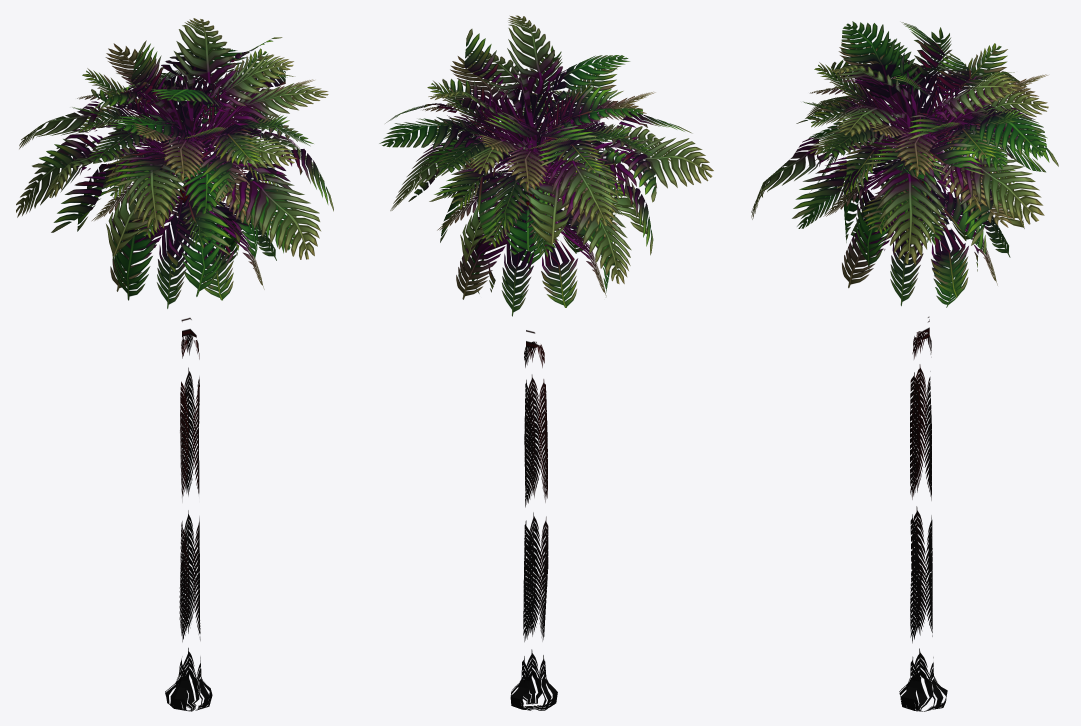
The model's file is SM_Env_Tree_Palm_02.glb.
3 views of the same model, side by side, from view 1: azimuth 30°, elevation 25°; view 2: azimuth 150°, elevation 25°; view 3: azimuth 270°, elevation 25° (orthographic). The views are drawn at different scales.
Visible parts, largest first — view 1: SM_Env_Tree_Palm_02_LOD0; view 2: SM_Env_Tree_Palm_02_LOD0; view 3: SM_Env_Tree_Palm_02_LOD0.
Part boxes in pixels (box(x1,y1,x2,y2)): SM_Env_Tree_Palm_02_LOD0: box(16, 18, 333, 711); SM_Env_Tree_Palm_02_LOD0: box(379, 15, 713, 710); SM_Env_Tree_Palm_02_LOD0: box(751, 21, 1058, 711).
Bounding box in the file's own units: 7.16 × 15.92 × 6.75.
1 material, 1 textured.
